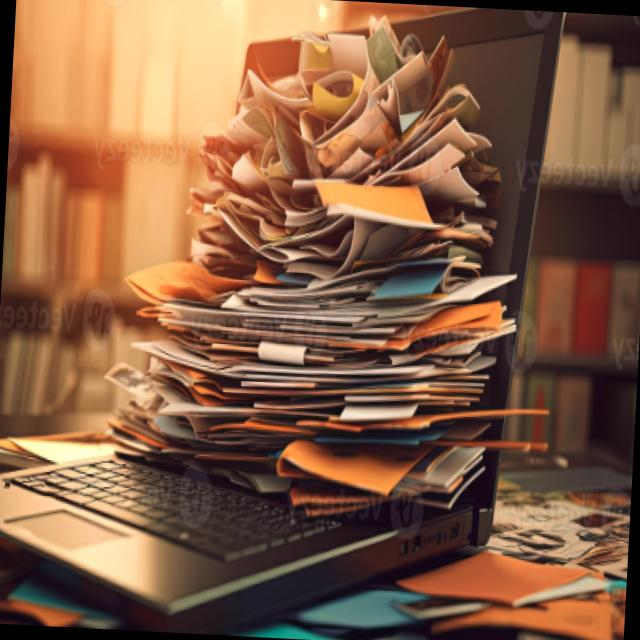KertasBekas: (101, 3, 536, 529)
